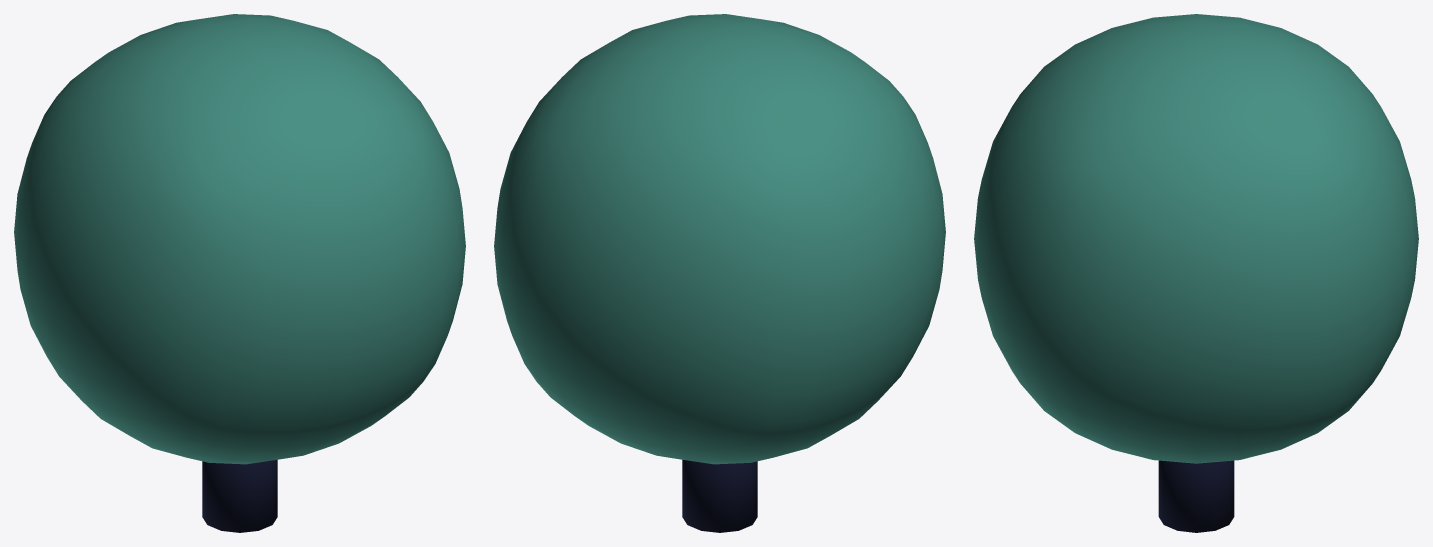
Rendered from arbre-rond-printemps.gltf.
3 renders of one model, left to right at view 1: azimuth 30°, elevation 25°; view 2: azimuth 150°, elevation 25°; view 3: azimuth 270°, elevation 25°, orthographic.
Parts seen in each view (by area): view 1: Cube.001, Cylinder; view 2: Cube.001, Cylinder; view 3: Cube.001, Cylinder.
Boxes of the visible parts, left/top/right/bottom form: Cube.001: left=14, top=14, right=465, bottom=464; Cylinder: left=202, top=459, right=277, bottom=532; Cube.001: left=494, top=14, right=945, bottom=464; Cylinder: left=682, top=459, right=757, bottom=532; Cube.001: left=974, top=14, right=1418, bottom=463; Cylinder: left=1158, top=460, right=1234, bottom=532.
Size of the model in its own units: 1.11 by 1.32 by 1.11.
